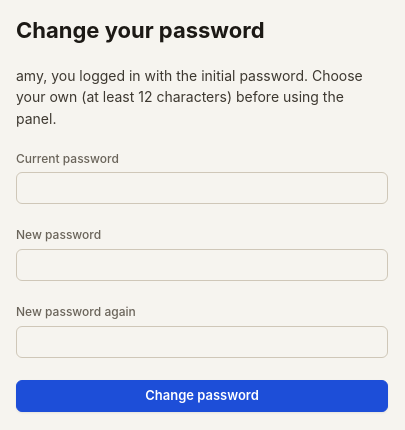
Test: AuthGate (spec §7) › shows only the change-password step while mustChangePassword is set, sends the CSRF header, then asks for a login with the new password
Type "0123456789abcdef" into the password field labelled "Current password" at coordinates (202, 188), box [16,172,388,204]
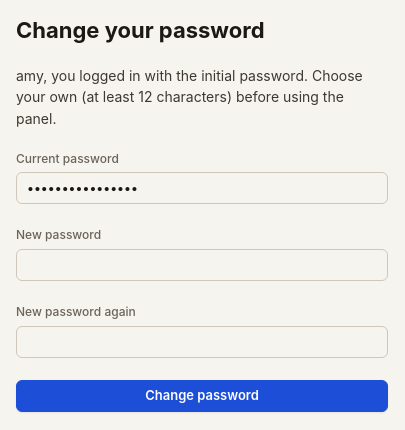
Type "a long new password" into the password field labelled "New password" at coordinates (202, 265), box [16,249,388,281]
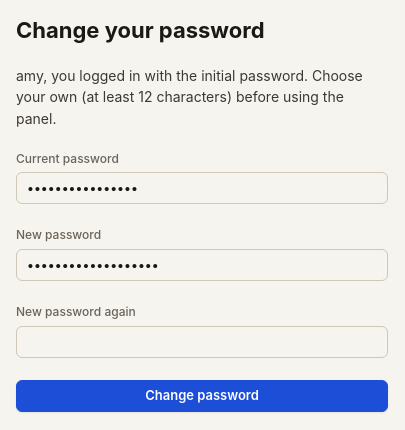
Type "a long new password" into the password field labelled "New password again" at coordinates (202, 342), box [16,326,388,358]
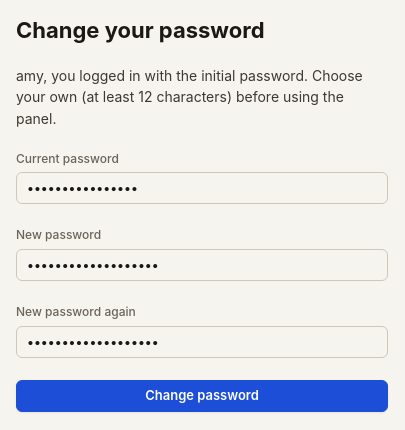
Click the button "Change password" at coordinates (202, 396), box [16,380,388,412]
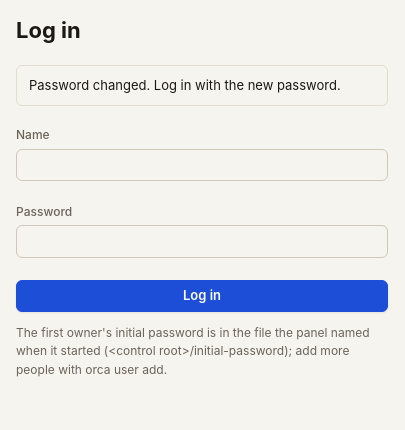
Result: the form "Log in" is shown
Result: the message shows "Password changed" at [29,77,341,93]
